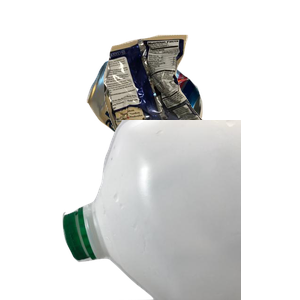glass: (102, 181, 246, 300)
metal: (84, 53, 279, 202)
plastic: (60, 120, 300, 300)
trash: (101, 32, 300, 195)
